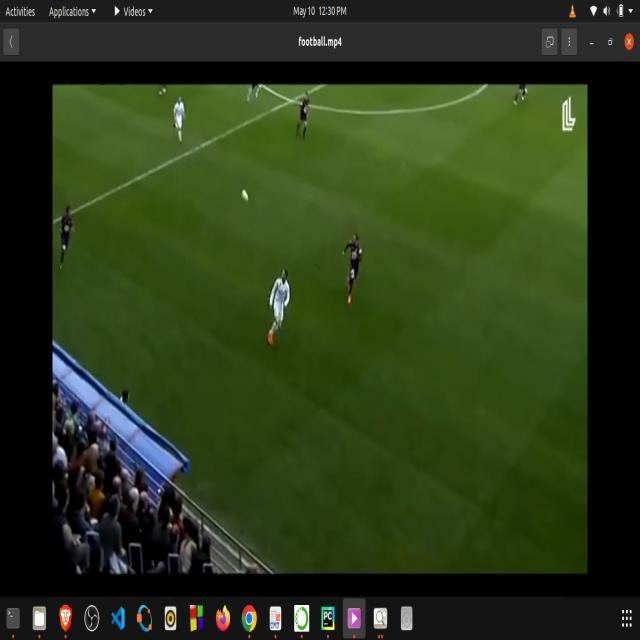Ball: (238, 178, 253, 208)
football-players: (338, 221, 370, 315), (266, 259, 292, 358), (57, 200, 82, 282), (293, 88, 314, 148), (170, 90, 190, 148), (510, 85, 530, 110)
